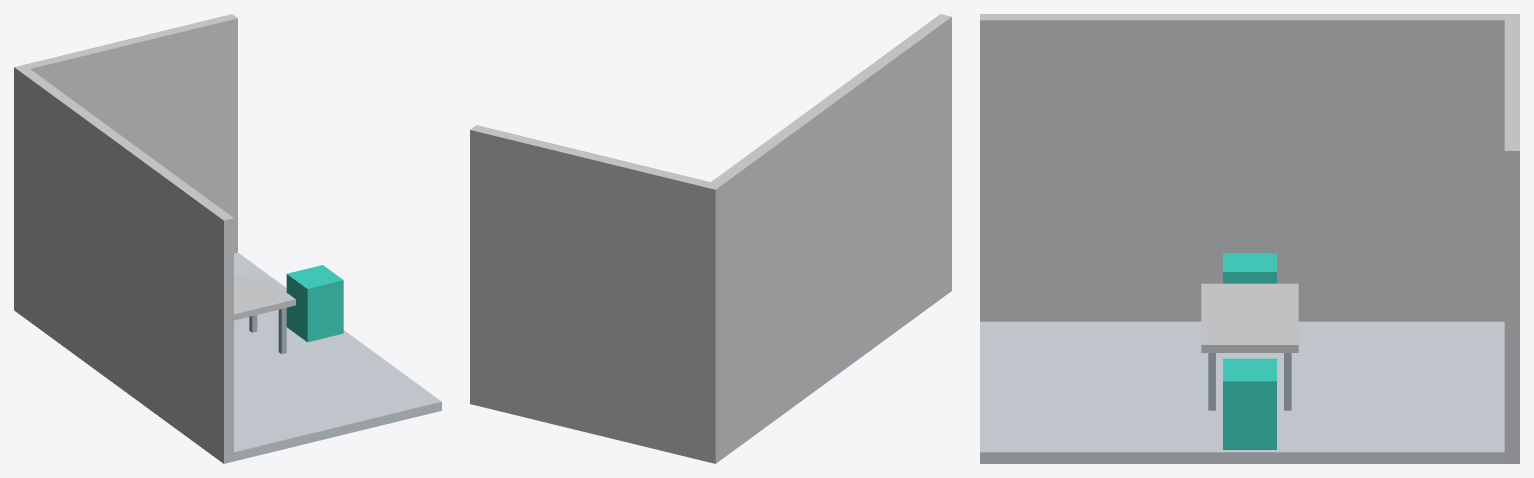
3 renders of one model, left to right at view 1: azimuth 30°, elevation 25°; view 2: azimuth 150°, elevation 25°; view 3: azimuth 270°, elevation 25°, orthographic. The views are drawn at different scales.
Visible parts, largest first — view 1: Exhibition Booth Concept; view 2: Exhibition Booth Concept; view 3: Exhibition Booth Concept.
Part boxes in pixels (left/top/right/bottom): Exhibition Booth Concept: left=14, top=14, right=441, bottom=463; Exhibition Booth Concept: left=470, top=14, right=951, bottom=463; Exhibition Booth Concept: left=980, top=14, right=1519, bottom=463.
Bounding box in the file's own units: 3 × 3.2 × 5.
